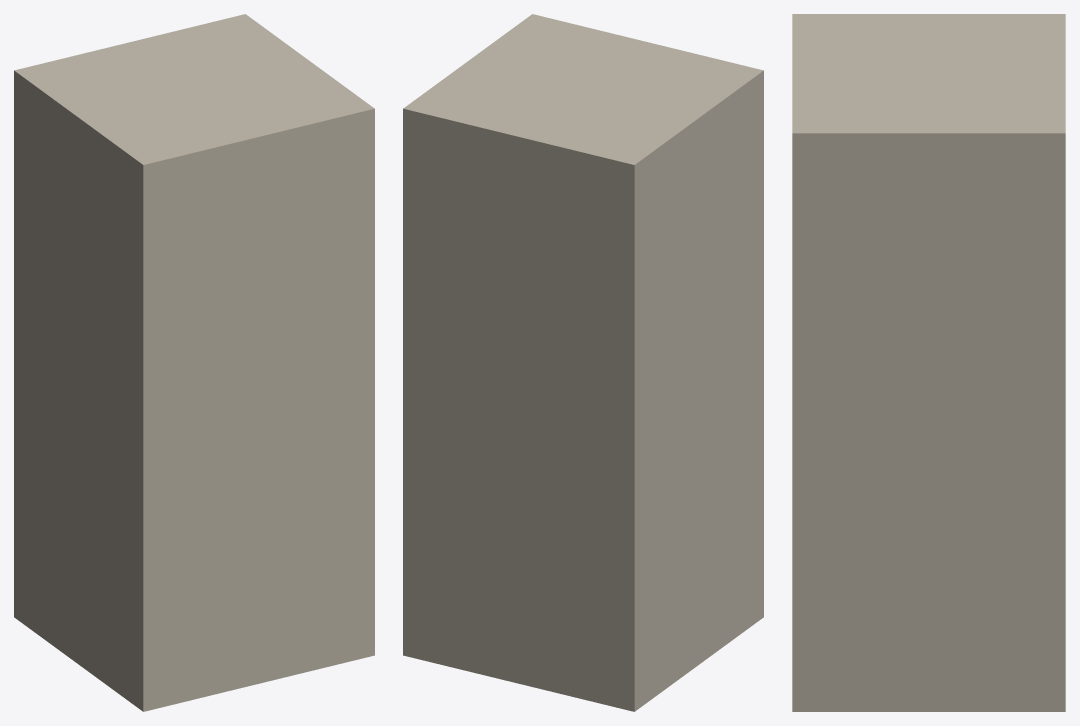
The model's file is ikea-markus-70292173-g2-proxy.glb.
3 renders of one model, left to right at view 1: azimuth 30°, elevation 25°; view 2: azimuth 150°, elevation 25°; view 3: azimuth 270°, elevation 25°, orthographic. The views are drawn at different scales.
Visible parts, largest first — view 1: proxy_body; view 2: proxy_body; view 3: proxy_body.
Boxes of the visible parts, x1=… form: proxy_body: x1=14, y1=14, x2=374, y2=711; proxy_body: x1=403, y1=14, x2=763, y2=711; proxy_body: x1=792, y1=14, x2=1065, y2=711.
Size of the model in its own units: 0.62 by 1.4 by 0.6.
